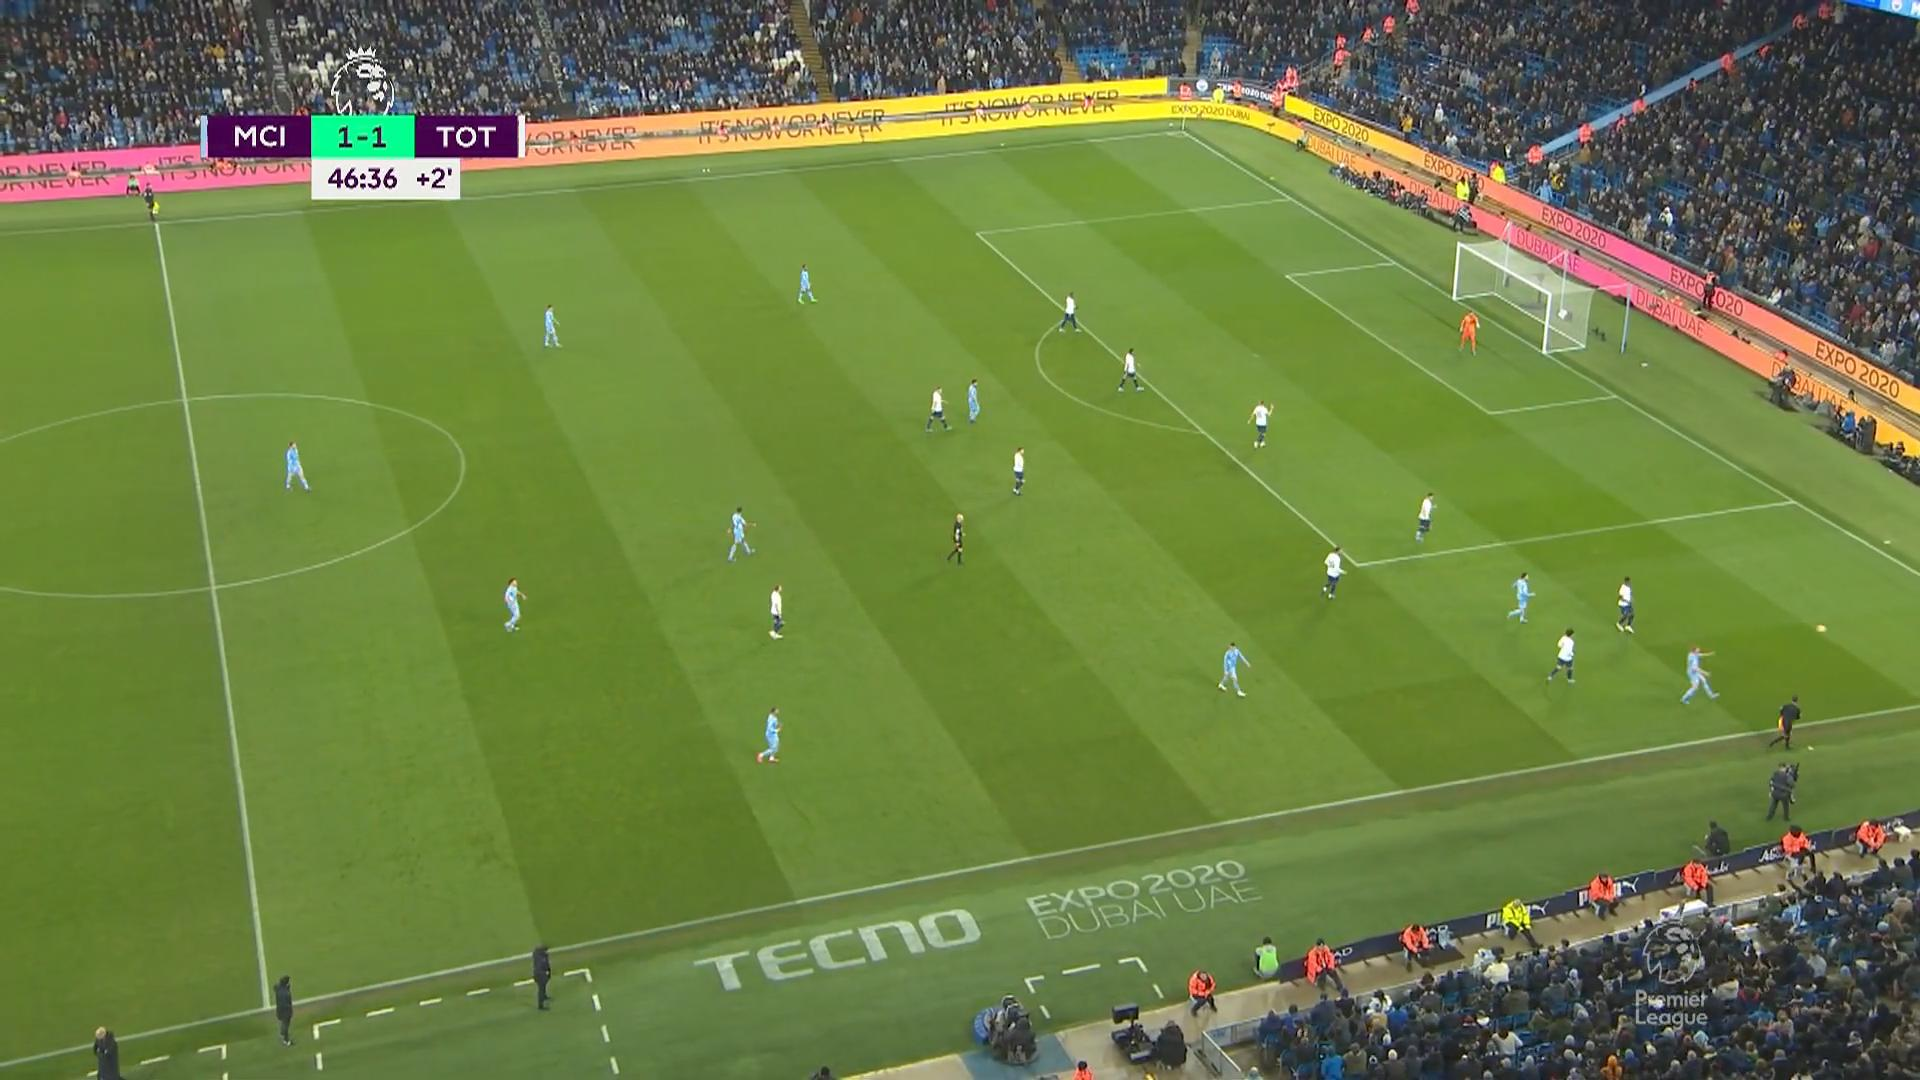ball: (1816, 624, 1826, 633)
goalkeeper: (1457, 309, 1480, 355)
player: (1678, 643, 1719, 704), (1216, 641, 1251, 697), (1544, 627, 1576, 684), (726, 506, 756, 562), (755, 706, 781, 763), (1506, 571, 1534, 623), (283, 439, 310, 492), (502, 577, 527, 632), (1247, 400, 1274, 449), (1116, 347, 1144, 392), (1321, 545, 1344, 599), (1614, 575, 1635, 634), (924, 386, 950, 432), (1414, 492, 1435, 541), (767, 584, 785, 638), (1057, 291, 1080, 333), (541, 303, 561, 348), (796, 263, 816, 304), (1010, 446, 1025, 496), (965, 378, 981, 423)
referee: (945, 512, 965, 564)
